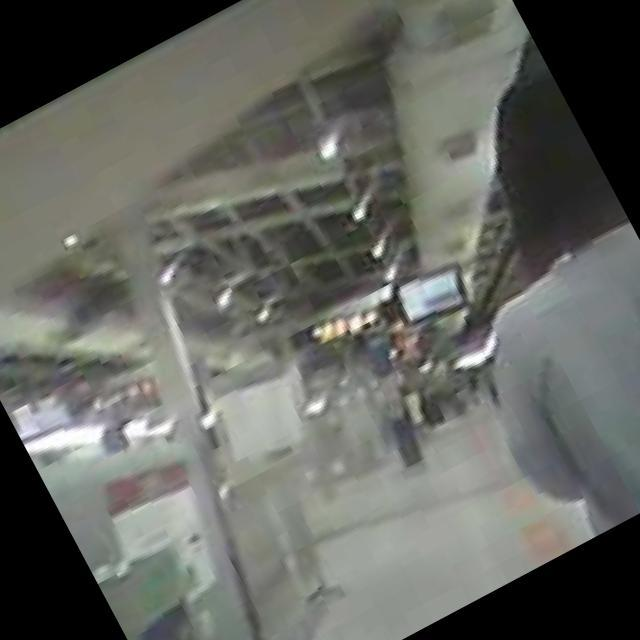person: (357, 64, 640, 553), (347, 340, 444, 470)
